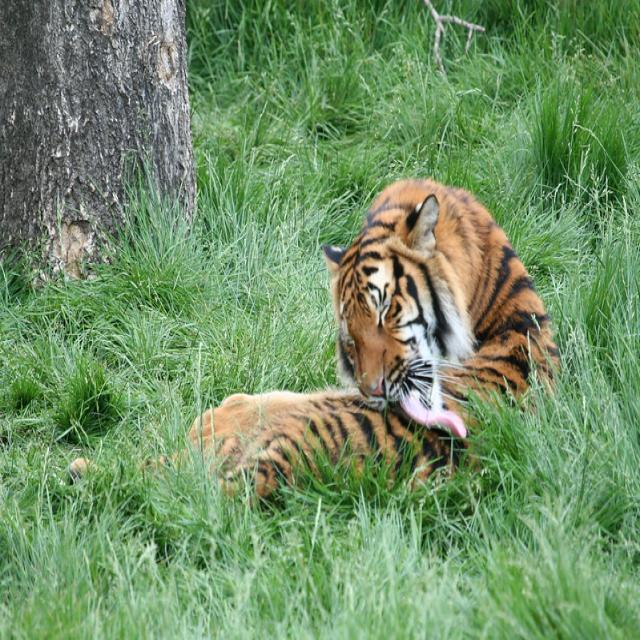Tiger: (61, 170, 561, 510)
